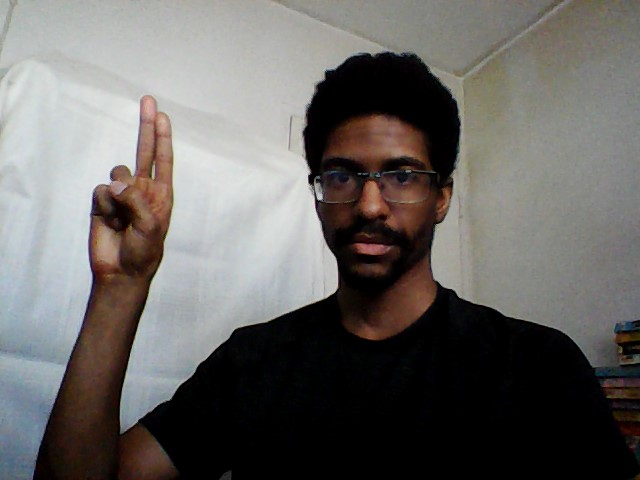u: (82, 91, 179, 286)
